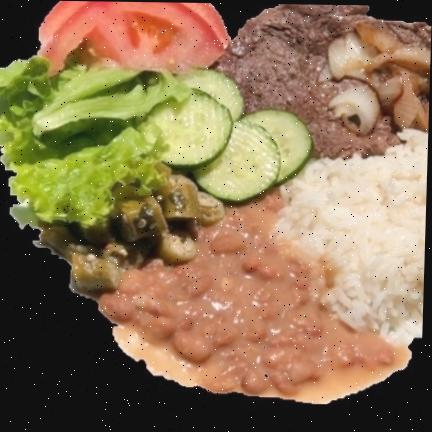beans: (101, 193, 399, 400)
cucumber: (146, 69, 312, 202)
meat: (216, 4, 431, 157)
rice: (276, 130, 428, 344)
salad: (0, 56, 191, 228)
tomato: (39, 1, 231, 73)
